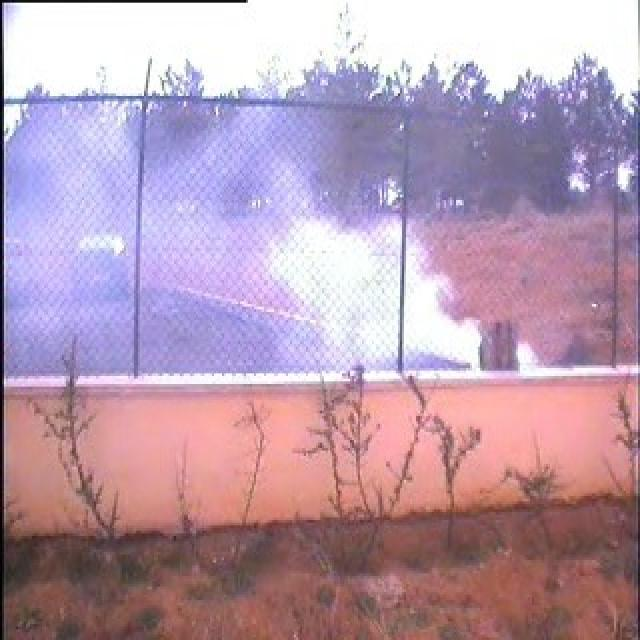Smoke: (269, 218, 483, 370)
